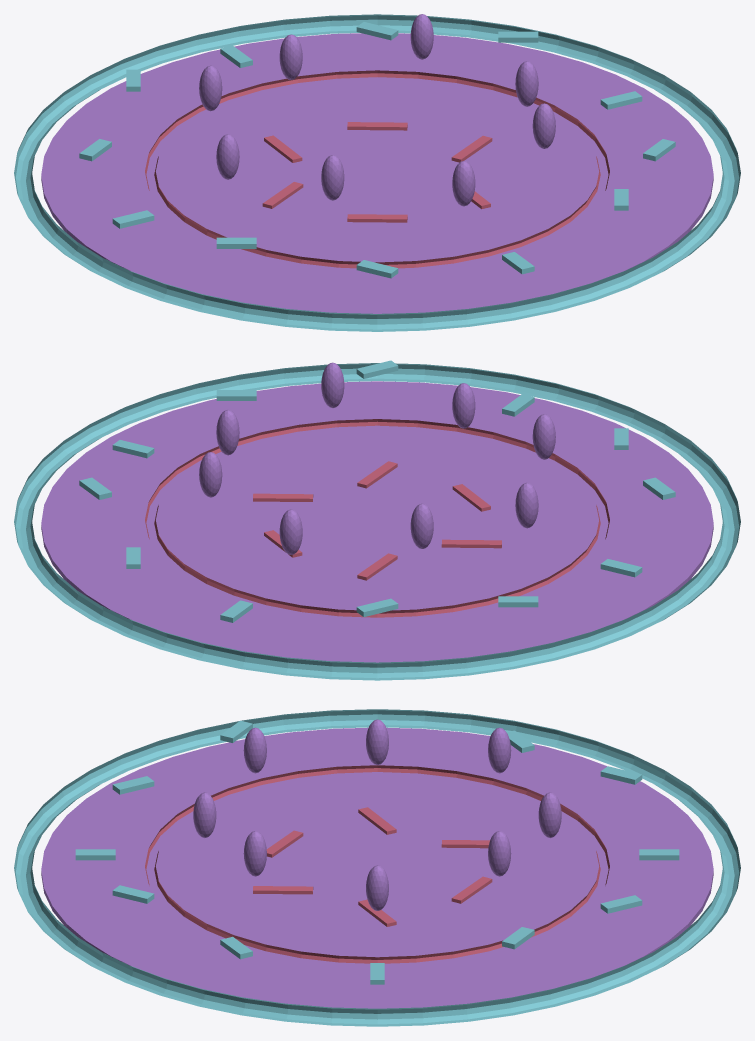
File: SpellAura_Activated.glb
3 views of the same model, one above another, from view 1: azimuth 30°, elevation 25°; view 2: azimuth 150°, elevation 25°; view 3: azimuth 270°, elevation 25° (orthographic).
Visible parts, largest first — view 1: Disc, OuterRing, InnerRing, Wisp_0, Wisp_2, Wisp_4, Wisp_6, Wisp_1, Wisp_3, Wisp_7, Wisp_5, Sigil_2 (+1 smaller); view 2: Disc, OuterRing, InnerRing, Wisp_4, Wisp_0, Wisp_2, Wisp_3, Wisp_1, Wisp_5, Wisp_6, Wisp_7; view 3: Disc, OuterRing, InnerRing, Wisp_2, Wisp_6, Wisp_0, Wisp_1, Wisp_7, Wisp_3, Wisp_4, Wisp_5.
Part boxes in pixels (left/top/right/bottom): Disc: left=41, top=33, right=713, bottom=313; OuterRing: left=14, top=14, right=740, bottom=331; InnerRing: left=145, top=70, right=609, bottom=268; Wisp_0: left=515, top=61, right=538, bottom=106; Wisp_2: left=452, top=161, right=475, bottom=206; Wisp_4: left=216, top=134, right=239, bottom=179; Wisp_6: left=279, top=34, right=302, bottom=79; Wisp_1: left=532, top=103, right=555, bottom=148; Wisp_3: left=321, top=155, right=344, bottom=200; Wisp_7: left=410, top=14, right=433, bottom=59; Wisp_5: left=199, top=65, right=222, bottom=111; Sigil_2: left=347, top=214, right=407, bottom=222; Disc: left=41, top=381, right=713, bottom=662; OuterRing: left=14, top=363, right=740, bottom=680; InnerRing: left=145, top=419, right=609, bottom=617; Wisp_4: left=515, top=482, right=538, bottom=528; Wisp_0: left=216, top=410, right=239, bottom=455; Wisp_2: left=452, top=383, right=475, bottom=428; Wisp_3: left=532, top=414, right=555, bottom=459; Wisp_1: left=321, top=362, right=344, bottom=407; Wisp_5: left=410, top=503, right=433, bottom=548; Wisp_6: left=279, top=509, right=302, bottom=554; Wisp_7: left=199, top=452, right=222, bottom=497; Disc: left=41, top=727, right=713, bottom=1008; OuterRing: left=14, top=709, right=740, bottom=1026; InnerRing: left=145, top=765, right=609, bottom=963; Wisp_2: left=193, top=792, right=216, bottom=837; Wisp_6: left=538, top=792, right=561, bottom=837; Wisp_0: left=366, top=865, right=388, bottom=910; Wisp_1: left=243, top=831, right=266, bottom=876; Wisp_7: left=488, top=831, right=511, bottom=876; Wisp_3: left=243, top=727, right=266, bottom=773; Wisp_4: left=366, top=719, right=388, bottom=764; Wisp_5: left=488, top=727, right=511, bottom=773.
Bounding box in the file's own units: 4 × 0.5836 × 4.
